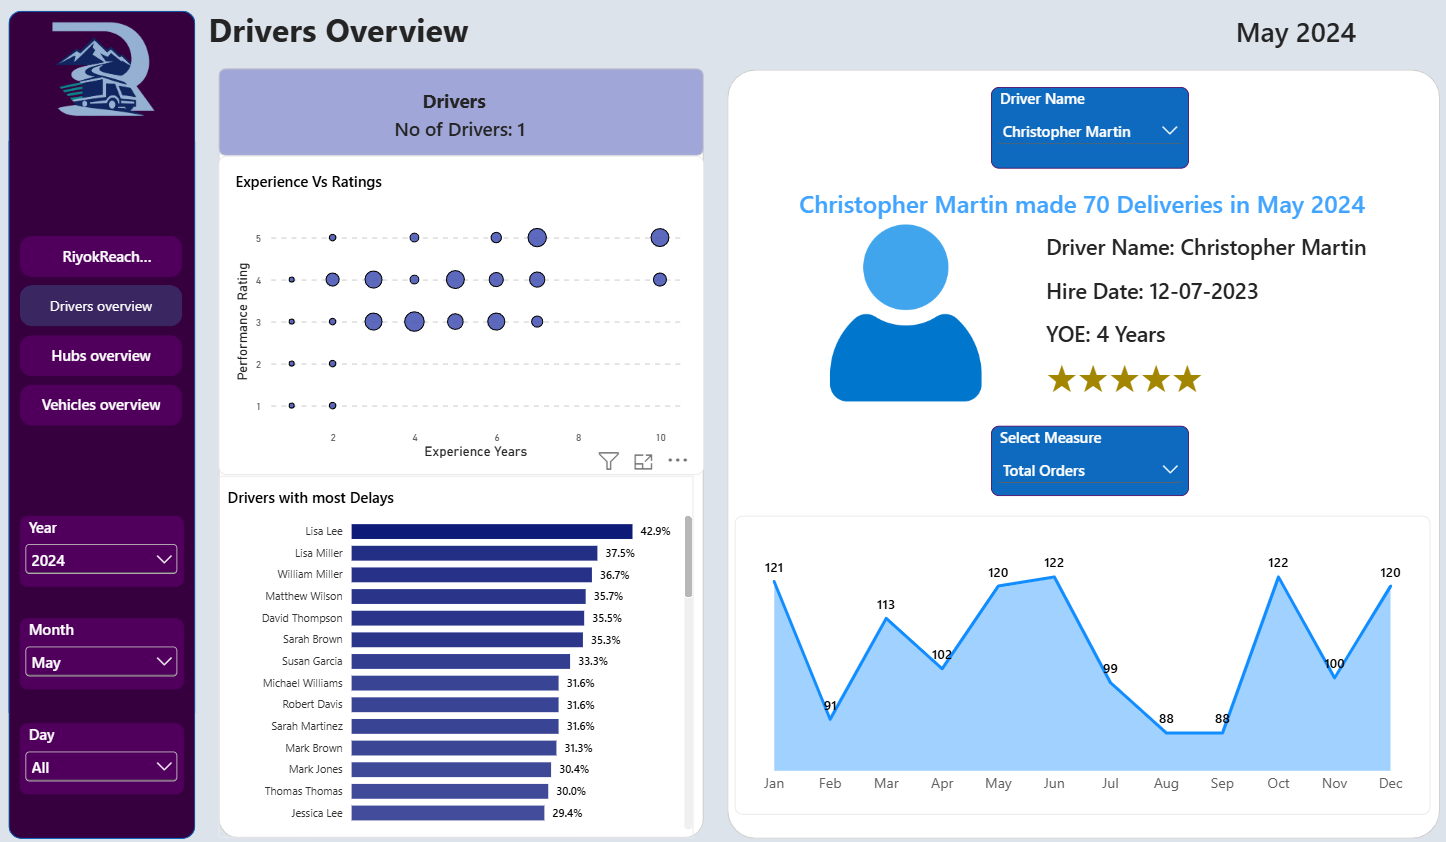

What the dashboard file says about the page in this screenshot:
{"tool":"powerbi","page":{"name":"Drivers overview","canvas":[1450,850],"ordinal":1},"visuals":[{"type":"shape","box":[12.4,14,185,820],"z":0},{"type":"textbox","box":[210,10,491,43.5],"z":1000},{"type":"slicer","fields":{"Values":["Date Table.Year"]},"box":[24,514.2,162,70],"z":2000},{"type":"slicer","fields":{"Values":["Date Table.Month"]},"box":[24,615.7,162,70],"z":3000},{"type":"shape","box":[220.2,70.7,480.5,762.2],"z":4000},{"type":"shape","box":[220.2,70.7,480.5,86.8],"z":5000},{"type":"cardVisual","fields":{"Data":["Drivers.No of Drivers"]},"box":[318.7,115,283,28],"z":6000},{"type":"textbox","box":[375,90,157,31],"z":7000},{"type":"scatterChart","title":"Experience Vs Ratings","fields":{"Size":["Sum(Drivers.Experience Years)1"],"X":["Drivers.Experience Years"],"Y":["Drivers.Performance Rating"]},"box":[220.2,157.5,480.5,316.3],"z":8000},{"type":"barChart","title":"Drivers with most Delays","fields":{"Category":["Drivers.DriverName"],"Y":["Orders.Delayed Delivery Rate"]},"box":[220.7,474.1,469.4,359.1],"z":9000},{"type":"image","box":[6.7,13.3,197.6,114.8],"z":10000},{"type":"cardVisual","fields":{"Data":["Orders.Year Month Title"]},"box":[1146.6,9.3,283,44],"z":11000},{"type":"shape","box":[723.5,72.1,705.7,761.7],"z":12000},{"type":"slicer","fields":{"Values":["Drivers.DriverName"]},"box":[985.5,88.6,195.9,80.8],"z":13000},{"type":"cardVisual","fields":{"Data":["Drivers.Driver's Title"]},"box":[731.5,180.2,688.8,45.4],"z":14000},{"type":"cardVisual","fields":{"Data":["Drivers.Driver Name Title","Drivers.Hire Date Title","Drivers.YOE","Drivers.Star Rating"]},"box":[1023.8,225.6,389.8,174.9],"z":15000},{"type":"image","box":[803.6,225.6,194.9,174.9],"z":16000},{"type":"areaChart","fields":{"Category":["Date Table.Month Abr"],"Y":["Orders.Total Orders"]},"box":[731.5,513.9,688.8,296.3],"z":17000},{"type":"slicer","fields":{"Values":["Select Measure.Select Measure"]},"box":[985.1,424.5,196.2,69.4],"z":18000},{"type":"pageNavigator","box":[24,236.3,161.5,188.2],"z":19000},{"type":"slicer","fields":{"Values":["Date Table.Day"]},"box":[24,719.5,162,70],"z":19001}]}

Visuals, with their boxes in screenshot pixels (x1, y1, x2, y2), scaled from the page's 1450x850 canvas onto the 1446x842 screenshot:
shape: <bbox>12, 14, 197, 826</bbox>
textbox: <bbox>209, 10, 699, 53</bbox>
slicer - Date Table.Year: <bbox>24, 509, 185, 579</bbox>
slicer - Date Table.Month: <bbox>24, 610, 185, 679</bbox>
shape: <bbox>220, 70, 699, 825</bbox>
shape: <bbox>220, 70, 699, 156</bbox>
cardVisual - Drivers.No of Drivers: <bbox>318, 114, 600, 142</bbox>
textbox: <bbox>374, 89, 531, 120</bbox>
"Experience Vs Ratings" scatterChart: <bbox>220, 156, 699, 469</bbox>
"Drivers with most Delays" barChart: <bbox>220, 470, 688, 825</bbox>
image: <bbox>7, 13, 204, 127</bbox>
cardVisual - Orders.Year Month Title: <bbox>1143, 9, 1426, 53</bbox>
shape: <bbox>722, 71, 1425, 826</bbox>
slicer - Drivers.DriverName: <bbox>983, 88, 1178, 168</bbox>
cardVisual - Drivers.Driver's Title: <bbox>729, 179, 1416, 223</bbox>
cardVisual - Drivers.Driver Name Title x Drivers.Hire Date Title: <bbox>1021, 223, 1410, 397</bbox>
image: <bbox>801, 223, 996, 397</bbox>
areaChart - Date Table.Month Abr x Orders.Total Orders: <bbox>729, 509, 1416, 803</bbox>
slicer - Select Measure.Select Measure: <bbox>982, 421, 1178, 489</bbox>
pageNavigator: <bbox>24, 234, 185, 421</bbox>
slicer - Date Table.Day: <bbox>24, 713, 185, 782</bbox>
